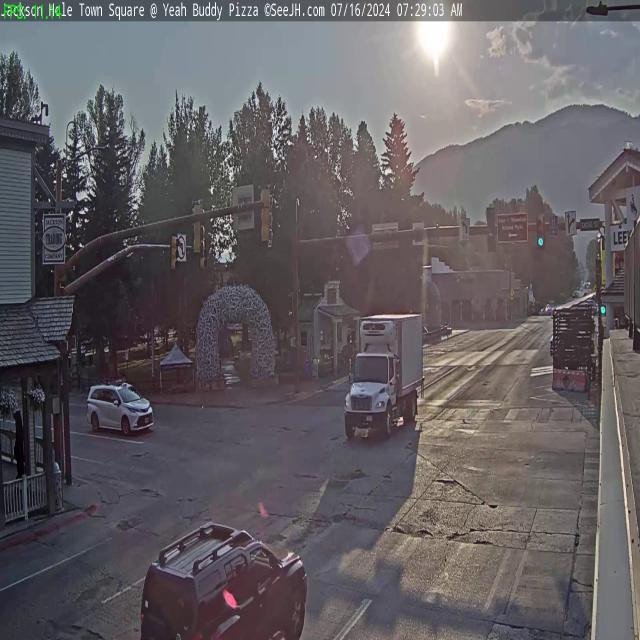suv: (138, 518, 309, 640), (86, 377, 154, 438)
traffic light: (260, 185, 273, 244), (191, 200, 203, 256), (486, 206, 497, 253), (171, 233, 181, 270), (537, 214, 545, 248)
truck: (337, 309, 428, 443)
